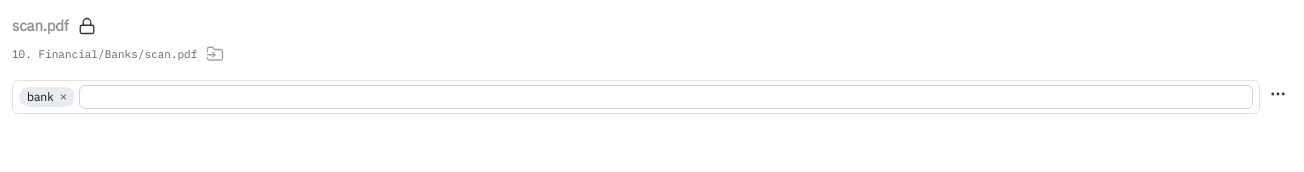
a locked file › for good removes the lock, and Lock puts it back
Click the button named "Unlock": (86, 26) [72,12,100,40]
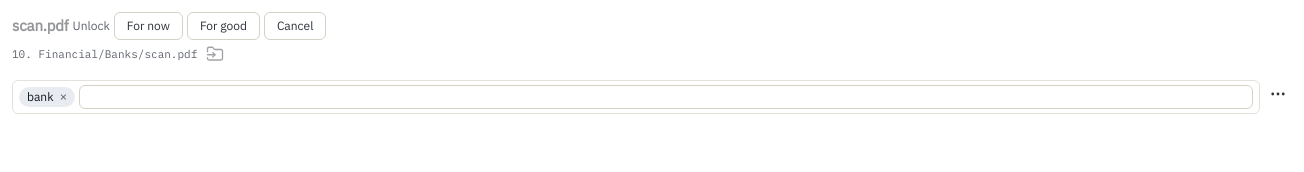
Click the button "For good": (223, 26) [187,12,260,40]
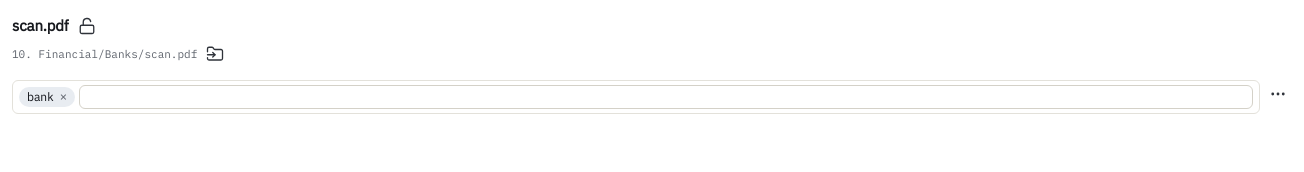
Expected: the button with aria-label "Rename " is enabled, [12,15,68,37]
Click the button named "Lock": (86, 26) [72,12,100,40]
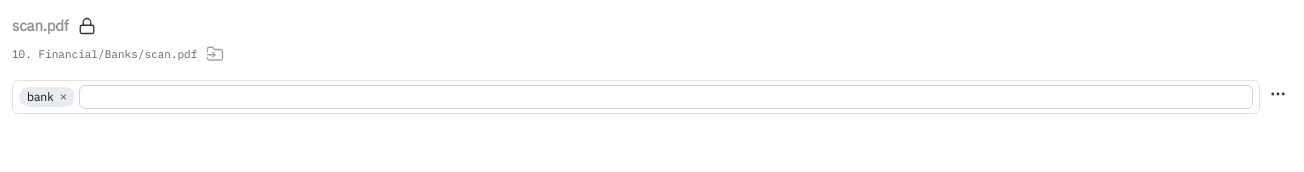
Expected: the button named "Unlock" is shown, [72,12,100,40]
Expected: the button with aria-label "Rename " is disabled, [12,15,68,37]
